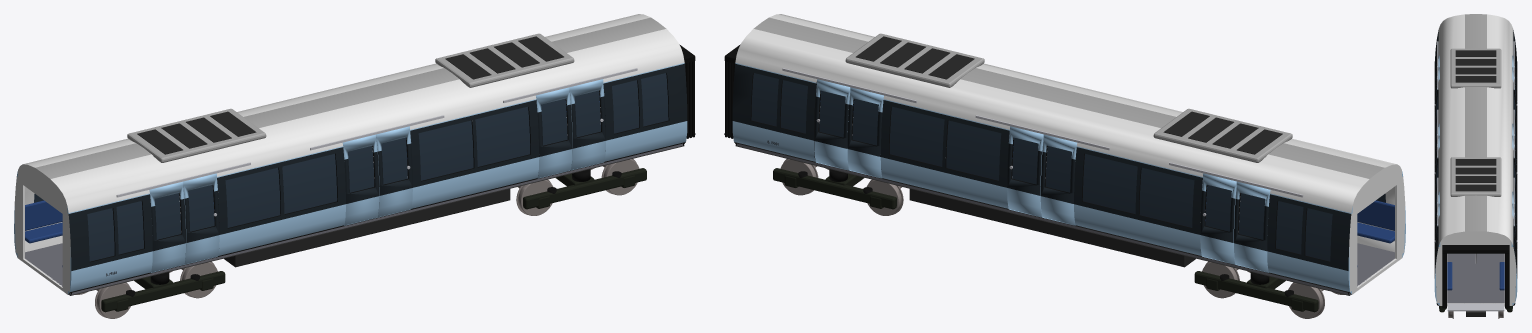
Rendered from mf19_car.glb.
The picture shows the model from 3 angles, left to right: view 1: azimuth 30°, elevation 25°; view 2: azimuth 150°, elevation 25°; view 3: azimuth 270°, elevation 25°; orthographic projection. The views are drawn at different scales.
Parts seen in each view (by area): view 1: mf19_car_neutral; view 2: mf19_car_neutral; view 3: mf19_car_neutral.
Boxes of the visible parts, x1,y1,x2,y2 form: mf19_car_neutral: (14, 14, 695, 318); mf19_car_neutral: (724, 14, 1405, 318); mf19_car_neutral: (1434, 14, 1517, 318).
Size of the model in its own units: 15.65 by 3.51 by 2.46.
Materials: 5 (3 with a texture image).
